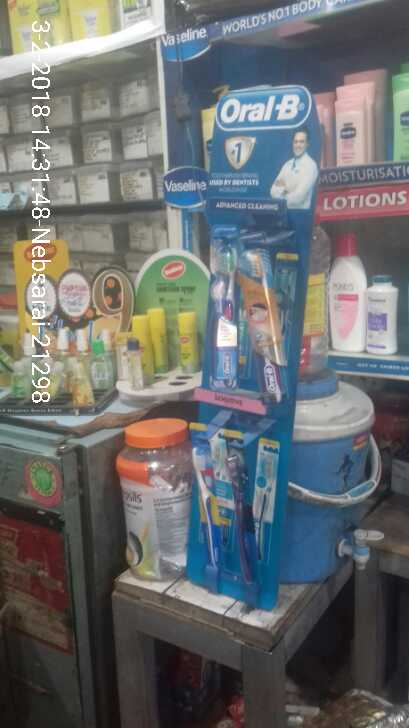oralb: (212, 247, 243, 382)
